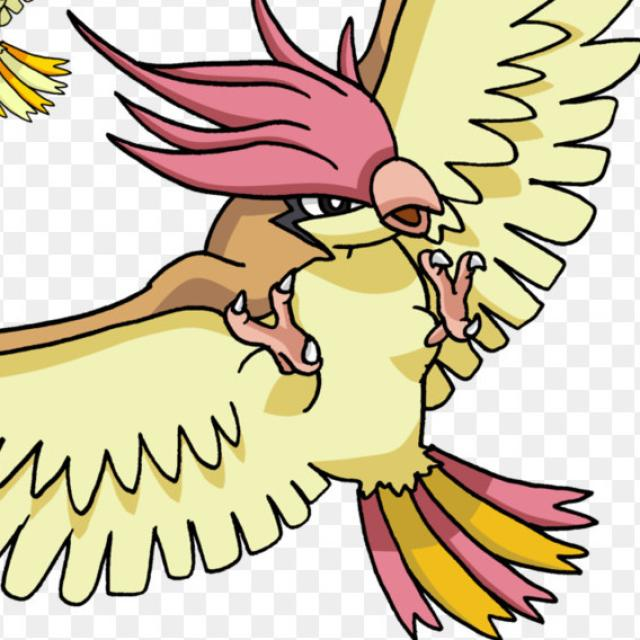Pidgeotto: (61, 23, 598, 640)
